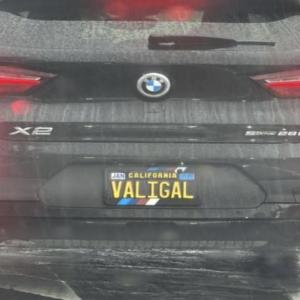Plate: (104, 167, 201, 206)
